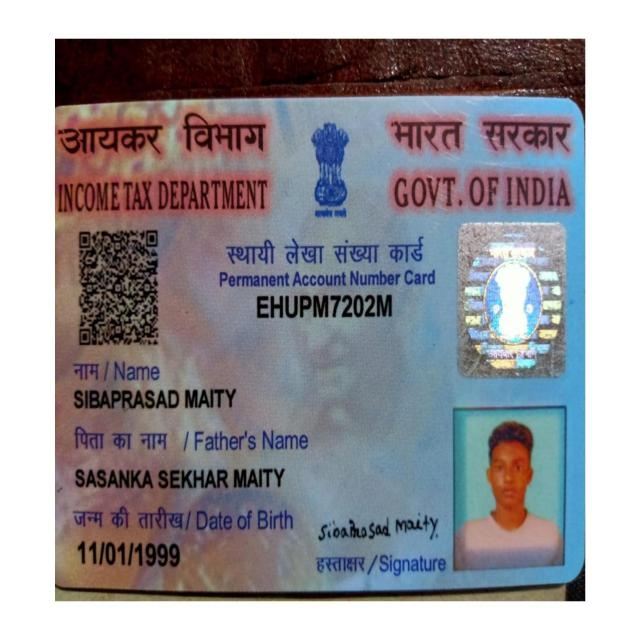pan_card: (56, 100, 579, 584)
